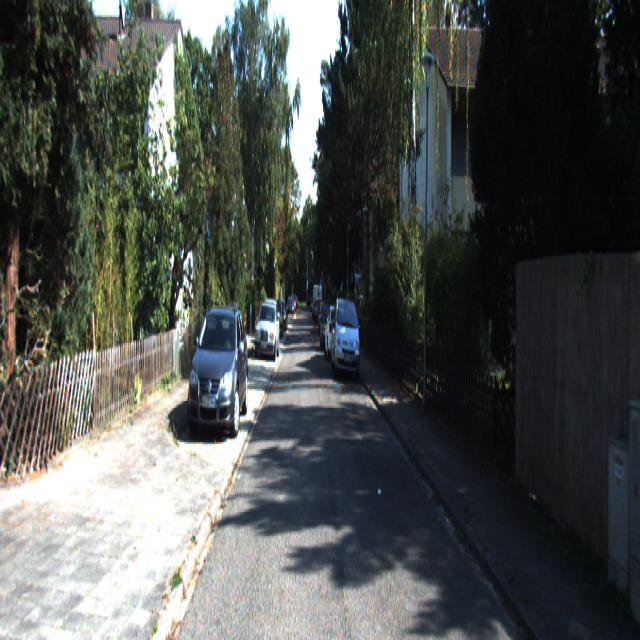Car: (187, 307, 249, 447), (332, 294, 361, 378), (254, 300, 281, 360), (324, 303, 348, 363)
